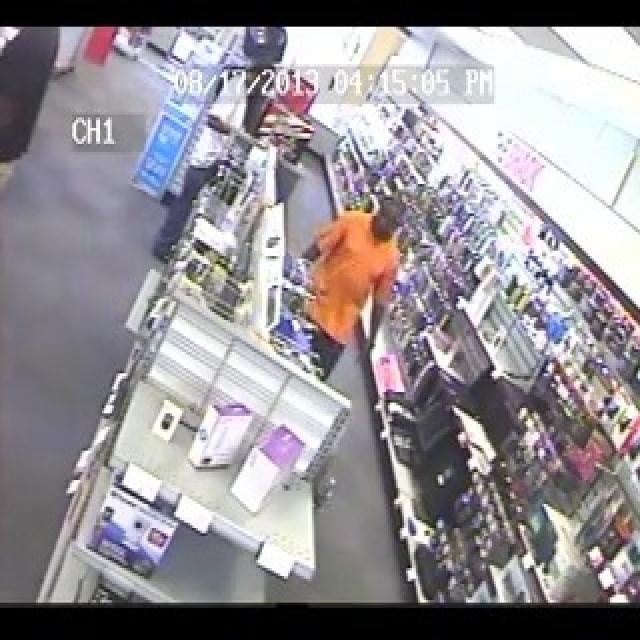Shoplifting: (269, 243, 392, 357), (350, 194, 418, 249)
